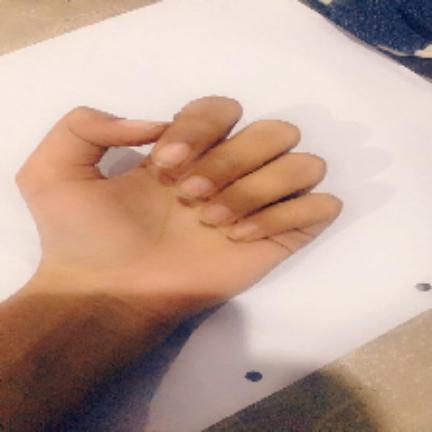Nail: (152, 142, 190, 169), (174, 176, 212, 198), (199, 203, 232, 225), (230, 221, 259, 239), (116, 119, 148, 128)
